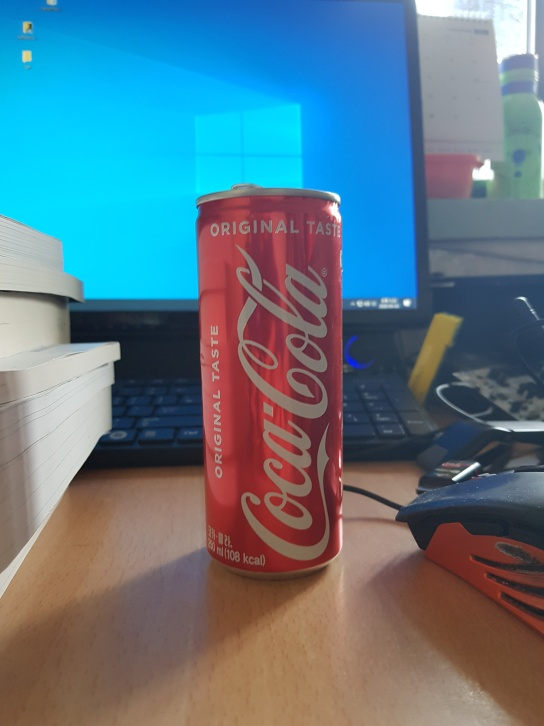Can: (193, 183, 348, 585)
